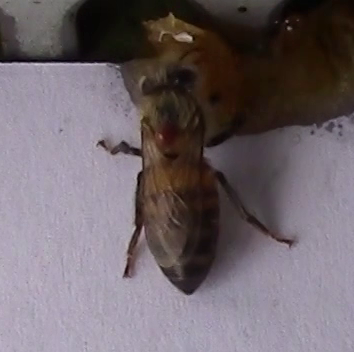Varroa destructor: (151, 124, 180, 149)
